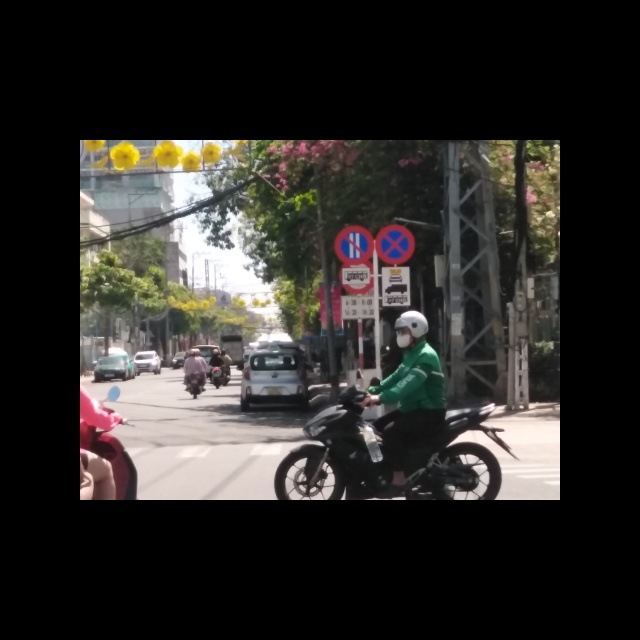Cấm dừng xe và đỗ xe: (375, 225, 415, 265)
Cấm đỗ xe ngày chẵn: (333, 224, 375, 264)
